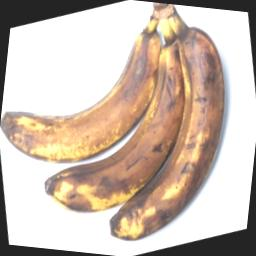Banana Rotten: (0, 0, 250, 254)
